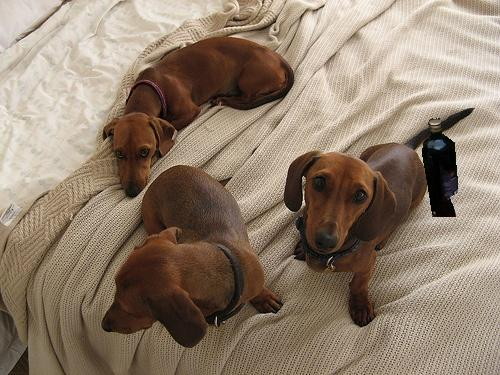tampered: (423, 119, 458, 217)
